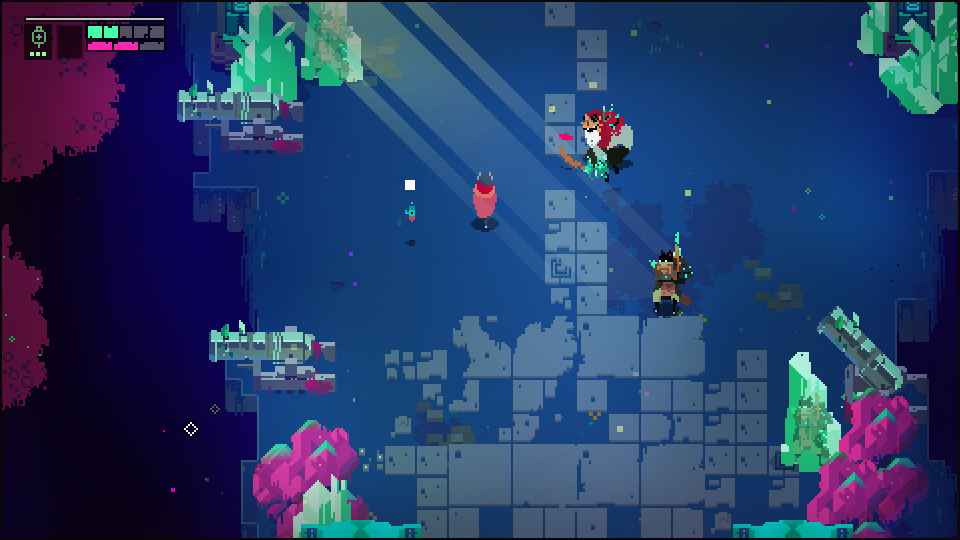hanged_man: (571, 104, 640, 178)
player: (475, 170, 498, 228)
